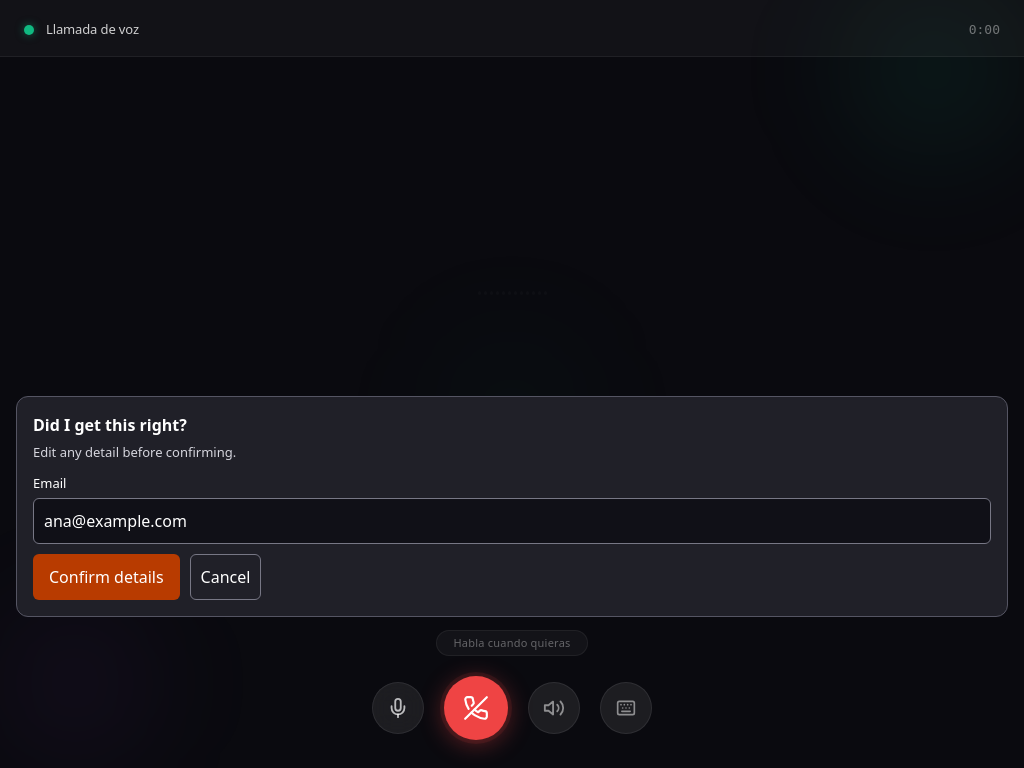
Scenario: VoiceCallOverlay — interactive quiz › does not lose the data form when the socket is disconnected
Click the button "Confirm details": click(106, 576) [33,554,180,600]
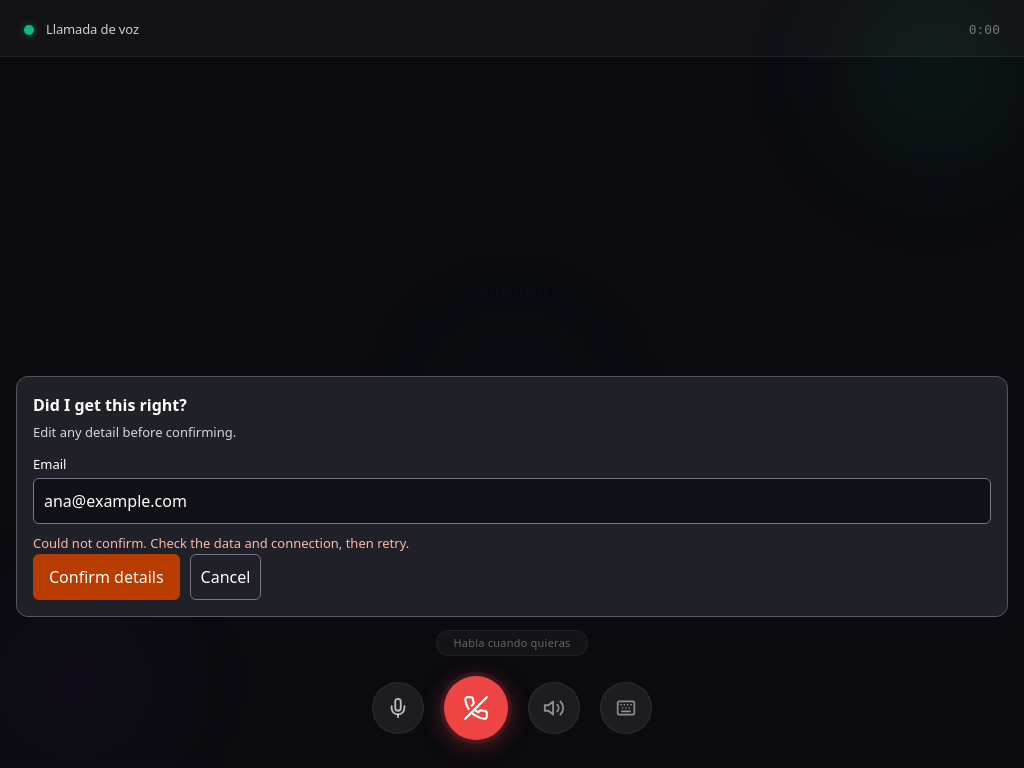
Expected: the field labelled "Email" holds "ana@example.com", [33,478,991,524]
Expected: the message "Could not confirm. Check the data and connection, then retry." is shown, [33,534,409,552]
